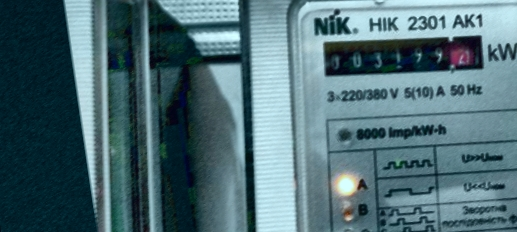0: (326, 50, 342, 71), (349, 48, 363, 68)
1: (391, 43, 402, 63)
3: (370, 49, 382, 69)
6: (455, 51, 467, 68)
9: (431, 45, 444, 64), (411, 44, 423, 63)
screen: (313, 13, 493, 99)
